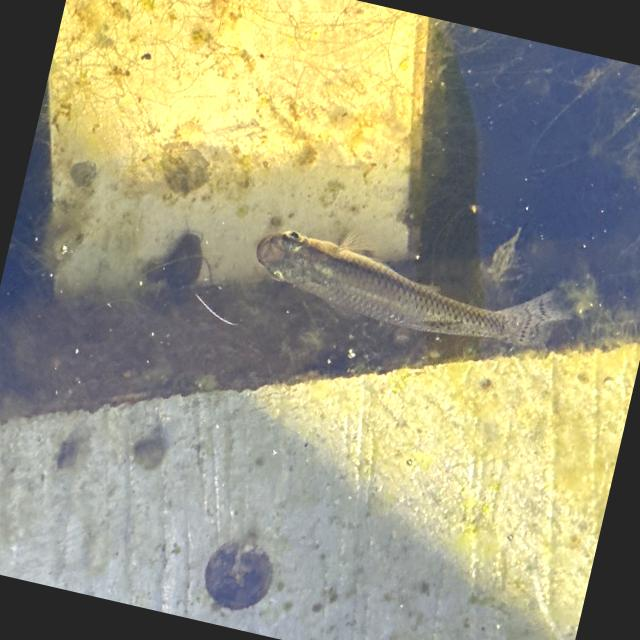Sivrisinek Baligi: (242, 203, 600, 374)
